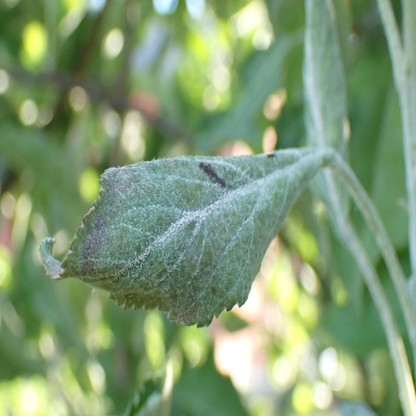powder: (38, 147, 329, 328)
